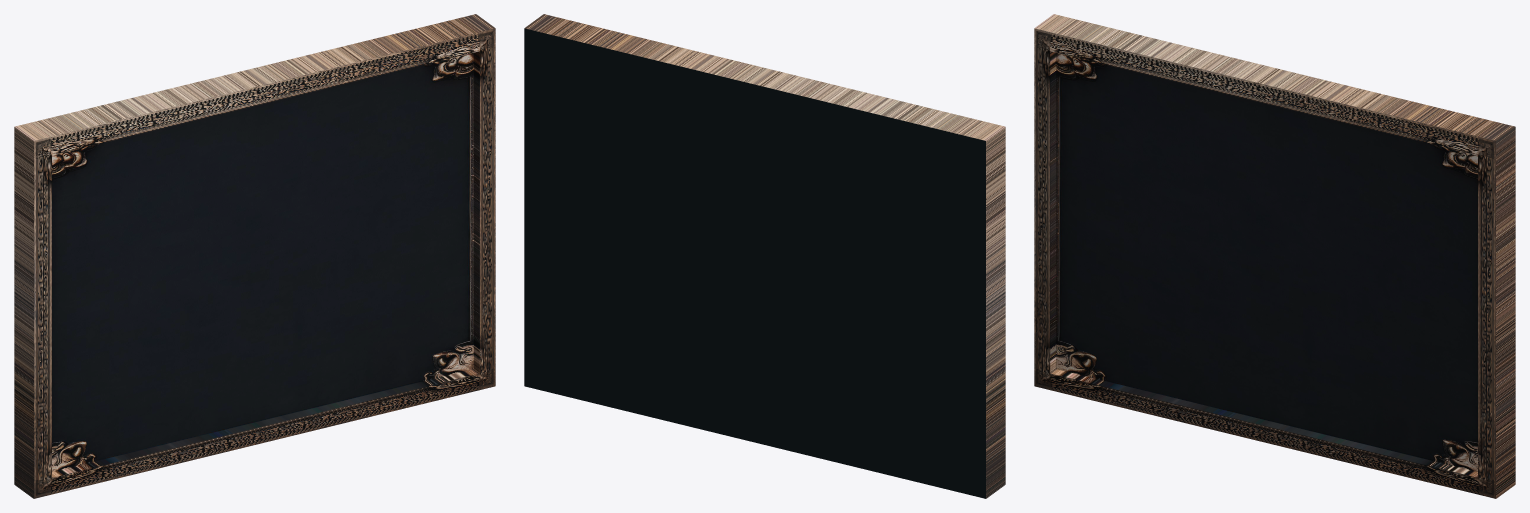
File: panel_card.glb
The picture shows the model from 3 angles, left to right: view 1: azimuth 30°, elevation 25°; view 2: azimuth 150°, elevation 25°; view 3: azimuth 330°, elevation 25°; orthographic projection.
Visible parts, largest first — view 1: panel_card; view 2: panel_card; view 3: panel_card.
Boxes of the visible parts, x1,y1,x2,y2 form: panel_card: (14,14,495,498); panel_card: (524,14,1005,498); panel_card: (1034,14,1515,498).
Bounding box in the file's own units: 0.54 × 0.4 × 0.042.
1 material, 1 textured.
